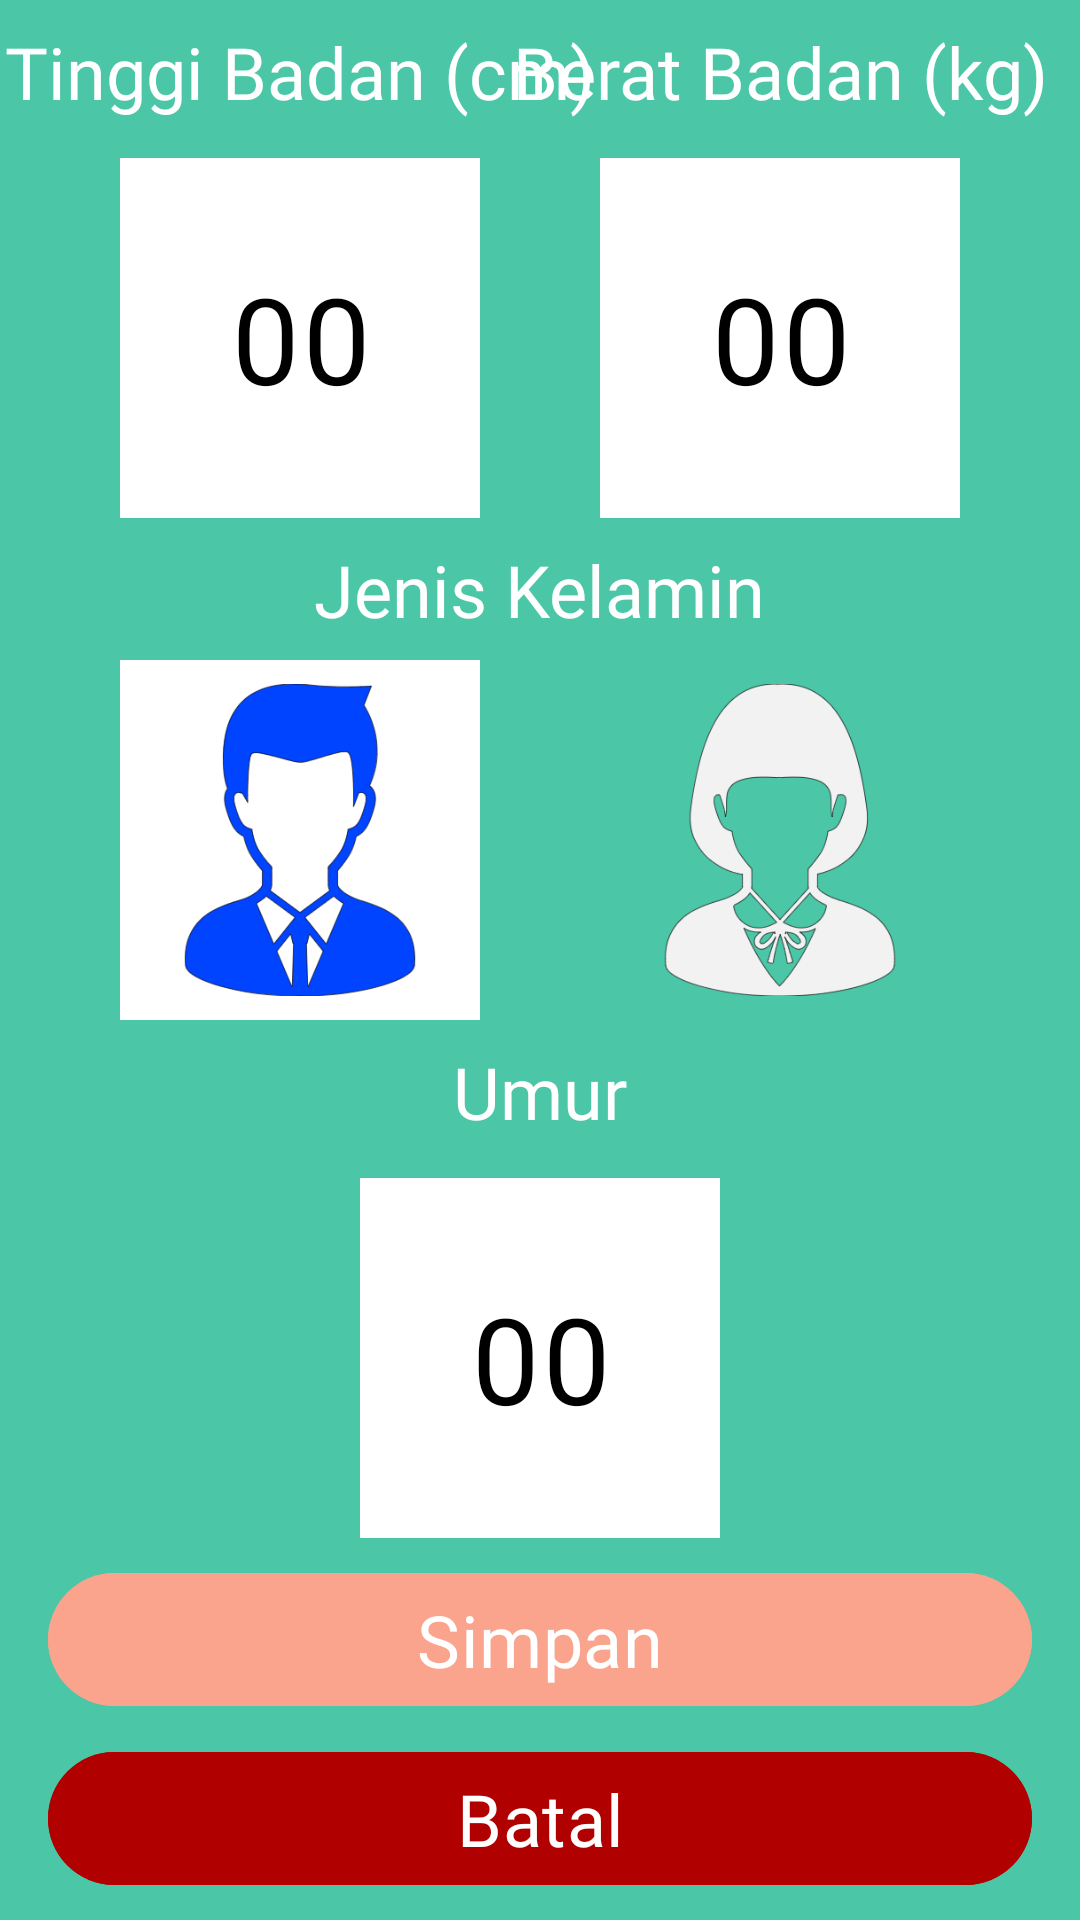

Screen size 1080x1920. Icon name, then its center in pixels as point (x, y):
female: point (780, 840)
male: point (300, 840)
